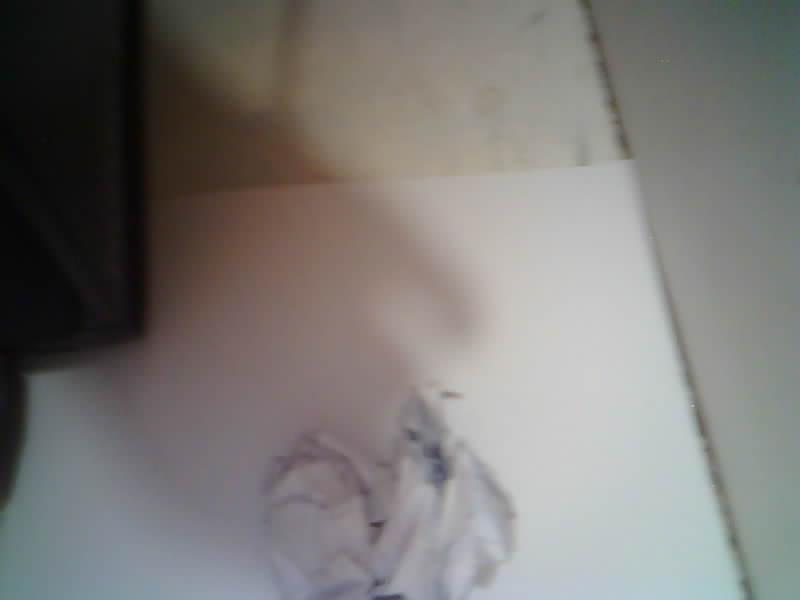biodegradable: (265, 395, 514, 599)
